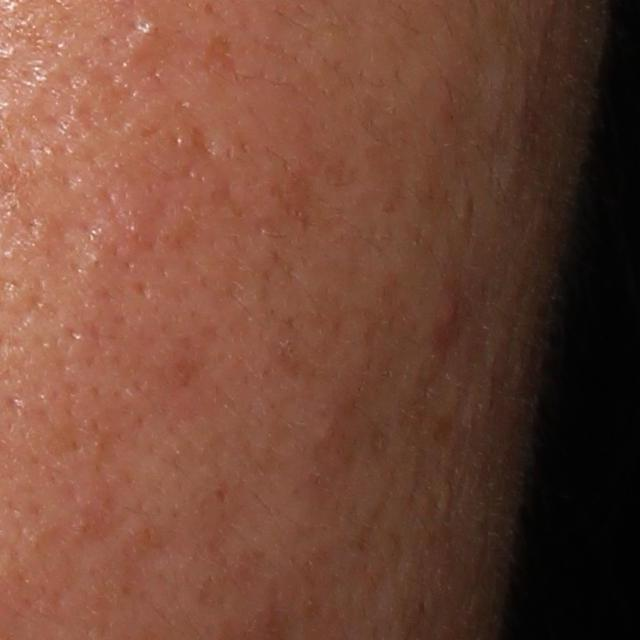atrophic_scar: (189, 126, 217, 159)
comedo: (131, 18, 159, 51)
papule: (440, 288, 461, 330)
